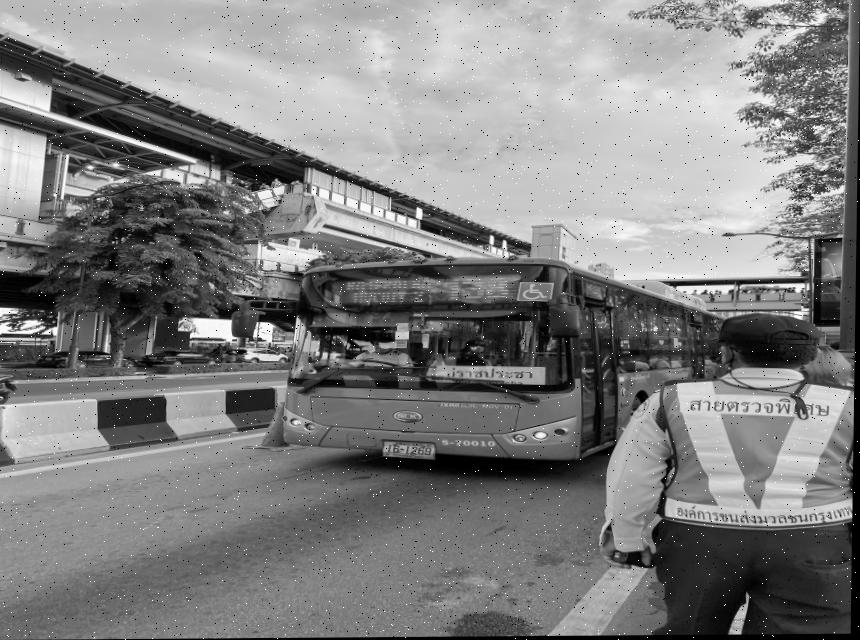BMTA-bus: (272, 258, 724, 465)
Bus Line Number: (440, 271, 521, 303)
Bus Side Number: (438, 436, 502, 450)
Destination Sign: (437, 366, 548, 389)
